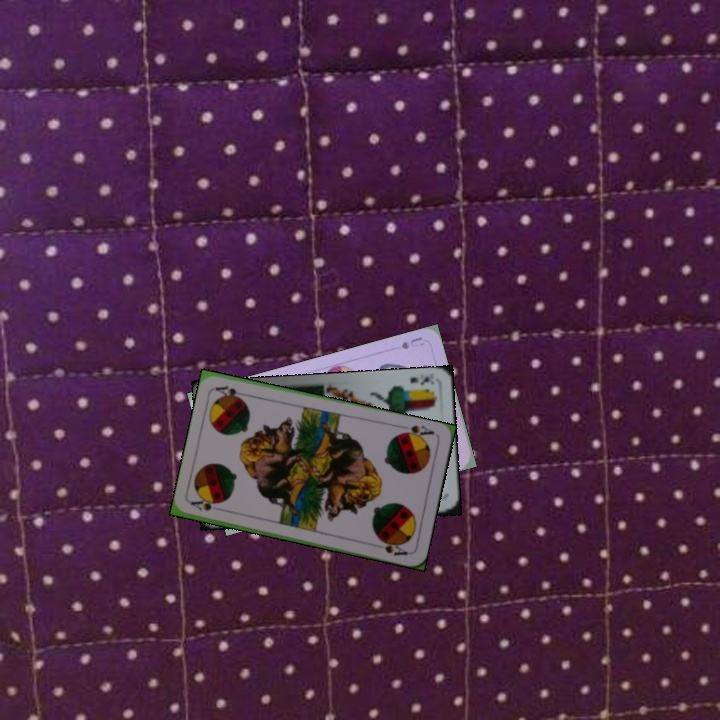EK: (406, 370, 437, 387)
SA: (396, 421, 437, 442), (187, 496, 227, 514)
SU: (397, 333, 426, 352)
